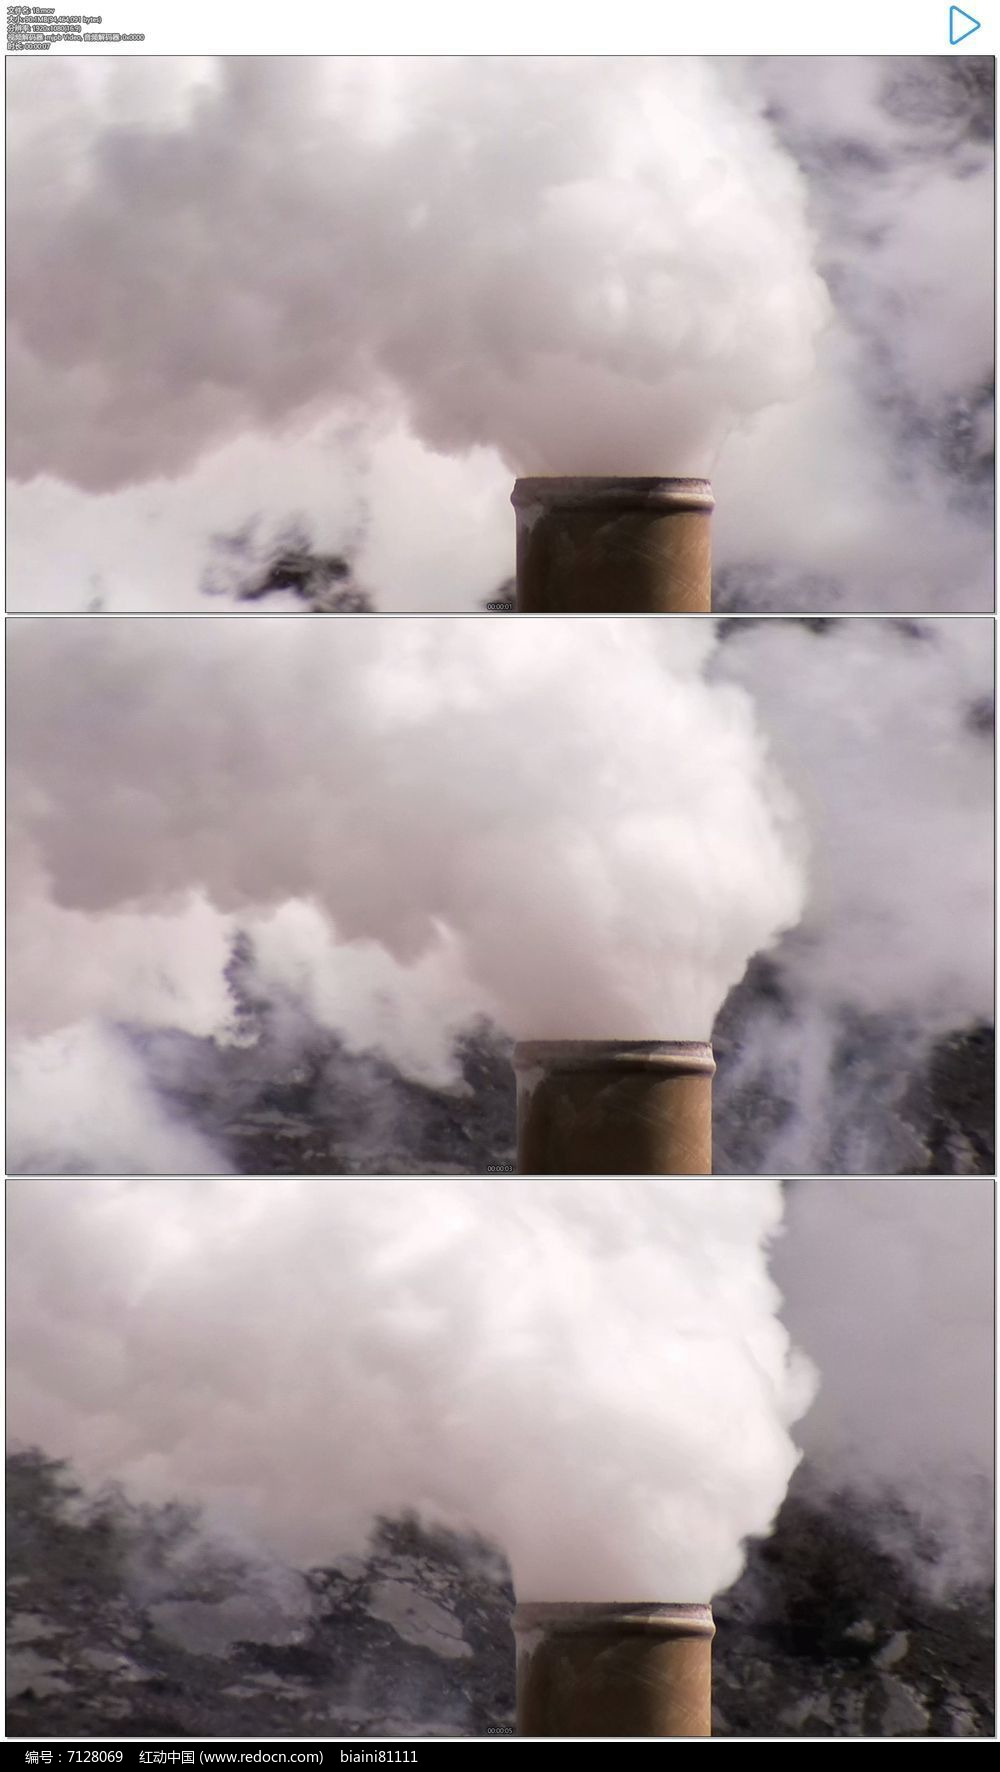dust: (66, 63, 858, 538), (28, 633, 887, 1065), (39, 1238, 906, 1644)
